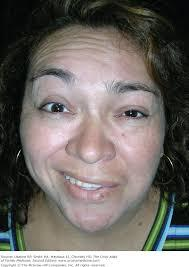strokeEyeMid: (30, 71, 159, 128)
strokeMouthMid: (55, 166, 127, 207)
